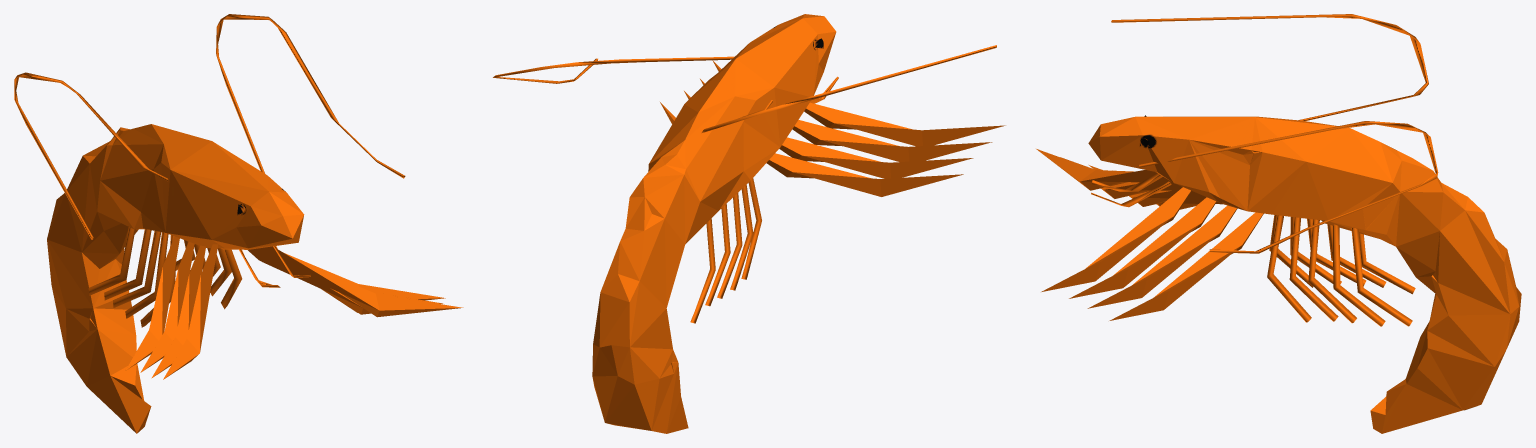
Rendered from camaron.fbx.
3 views of the same model, side by side, from view 1: azimuth 30°, elevation 25°; view 2: azimuth 150°, elevation 25°; view 3: azimuth 270°, elevation 25° (orthographic). The views are drawn at different scales.
Visible parts, largest first — view 1: camaron; view 2: camaron; view 3: camaron.
Part boxes in pixels (box(x1,y1,x2,y2)): camaron: box(14, 14, 463, 433); camaron: box(493, 14, 1005, 433); camaron: box(1036, 14, 1521, 433).
Bounding box in the file's own units: 108 × 105 × 131.
1 material, 1 textured.
